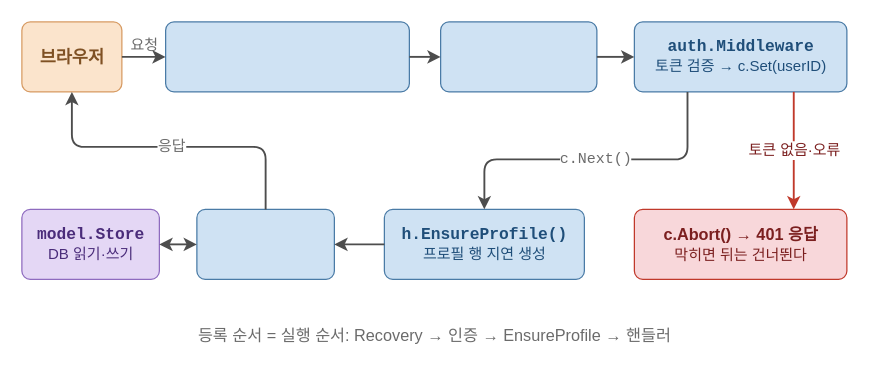
Image size: 869x371. Some labels were removed from this diagram. Each missing label, with the centre of its shape:
"Gin 라우터 경로 + 메서드로 핸들러를 고른다" goes at point (286, 56).
"gin.Recovery() 패닉 → 500" goes at point (518, 56).
"핸들러 본문 읽고 응답 만들기" goes at point (265, 243).
